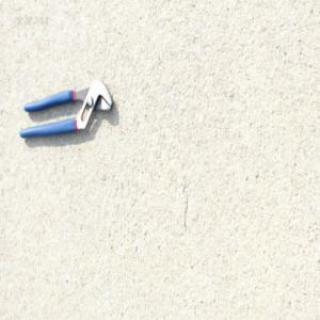Pliertrack_idkeyframe: (17, 76, 114, 138)
